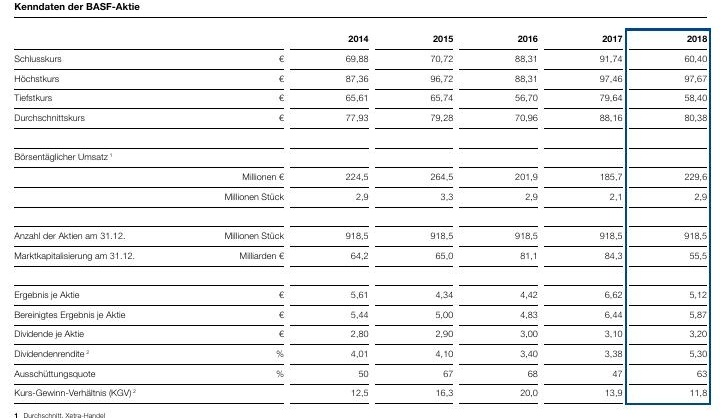table: (0, 0, 727, 418)
